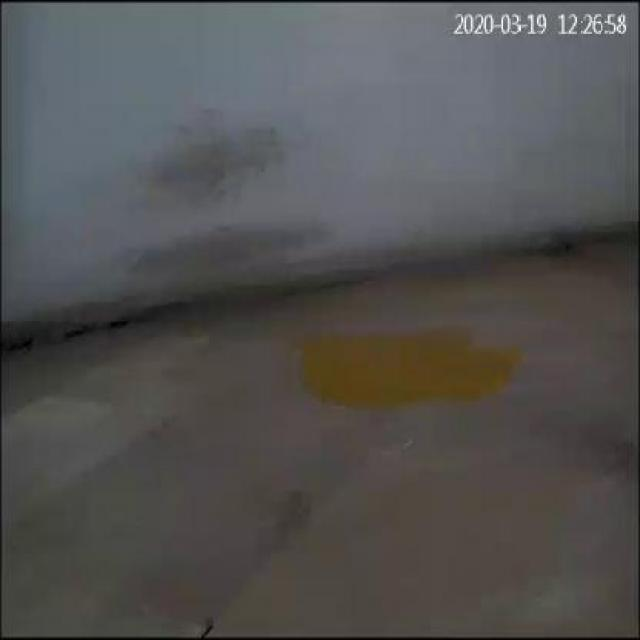spill: (294, 325, 520, 410)
